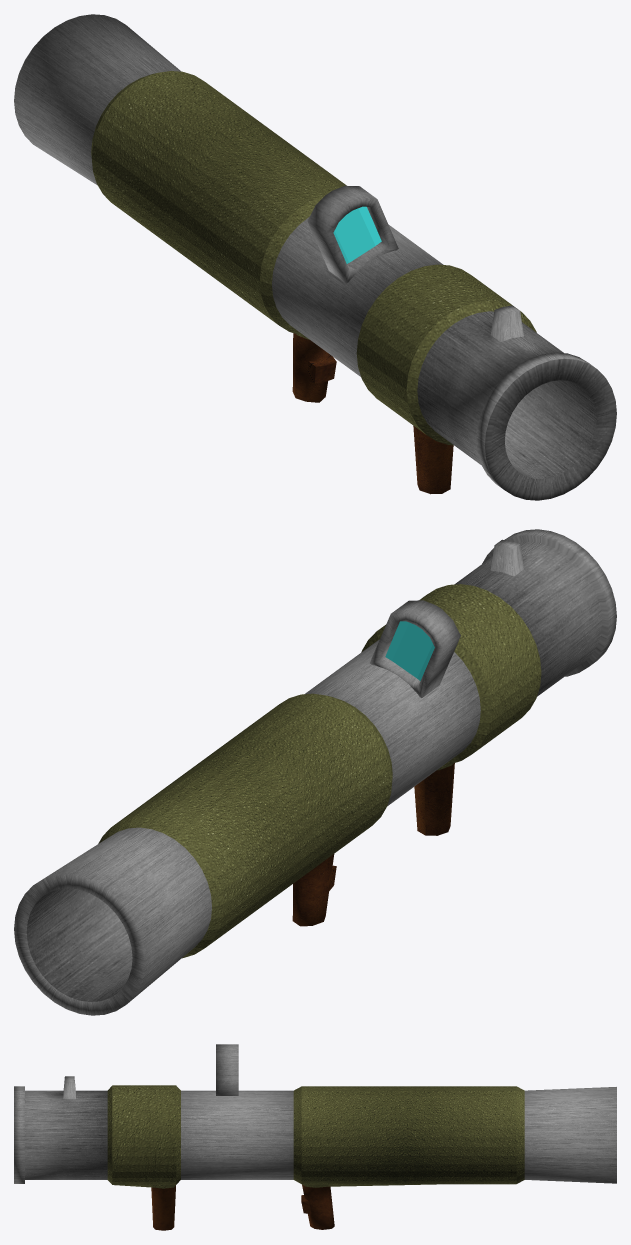
The model's file is RPG.fbx.
3 views of the same model, one above another, from view 1: azimuth 30°, elevation 25°; view 2: azimuth 150°, elevation 25°; view 3: azimuth 270°, elevation 25° (orthographic). The views are drawn at different scales.
Parts seen in each view (by area): view 1: Cylinder, Cube; view 2: Cylinder, Cube; view 3: Cylinder.
Boxes of the visible parts, box(x1,y1,x2,y2) form: Cylinder: box(14, 14, 616, 500); Cube: box(333, 206, 381, 263); Cylinder: box(14, 529, 616, 1015); Cube: box(385, 621, 434, 680); Cylinder: box(14, 1044, 616, 1230).
Bounding box in the file's own units: 264 × 497 × 1594.
Materials: 2 (1 with a texture image).
